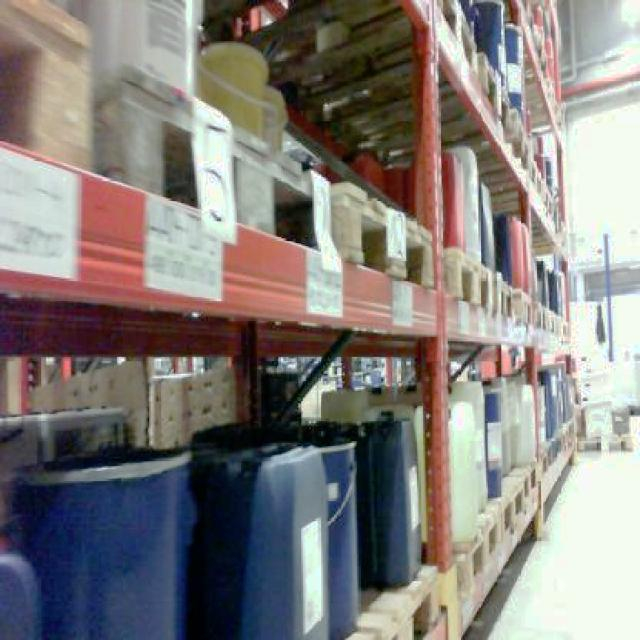ground: (454, 440, 638, 638)
pallet: (388, 0, 578, 638), (332, 563, 449, 638)
